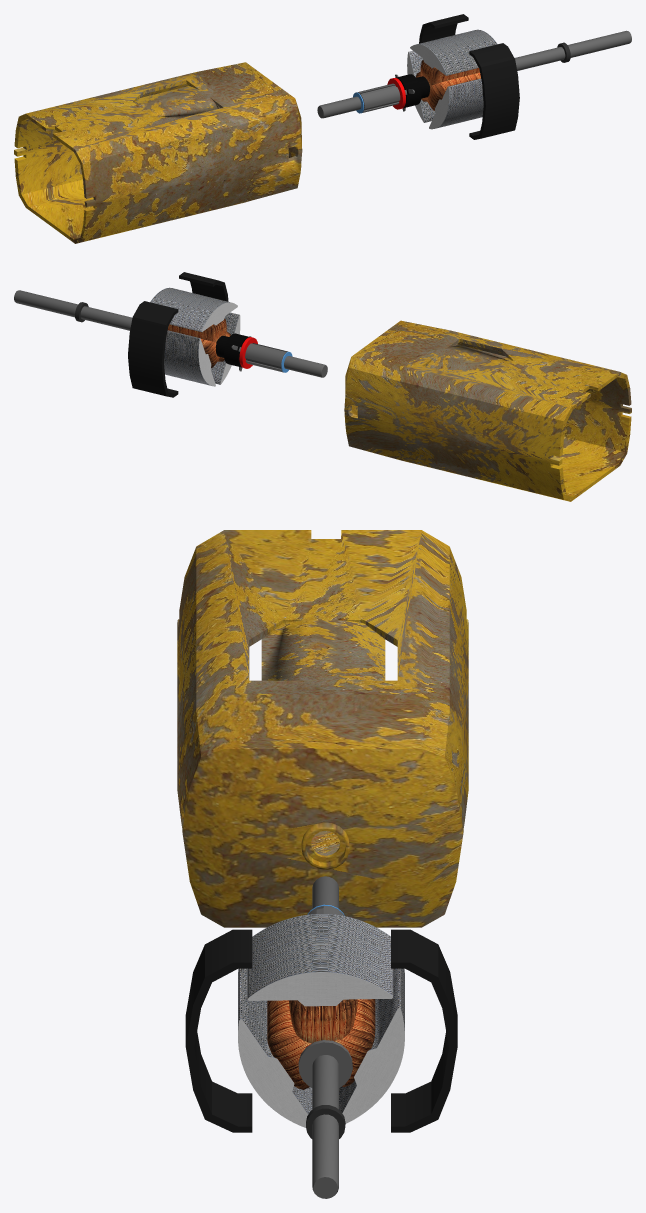
File: DC MOTOR.FBX
The picture shows the model from 3 angles, top to bottom: view 1: azimuth 30°, elevation 25°; view 2: azimuth 150°, elevation 25°; view 3: azimuth 270°, elevation 25°; orthographic projection. The views are drawn at different scales.
Visible parts, largest first — view 1: Box009, Magnet_1, coil_1, Coil_2, RototrHold, current, Magnet_2, coil_3, currentholder; view 2: Box009, Magnet_2, coil_1, coil_3, RototrHold, current, Magnet_1, Coil_2, currentholder; view 3: Box009, coil_1, Coil_2, Magnet_1, coil_3, Magnet_2, RototrHold, rotorpart.
Boxes of the visible parts, x1,y1,x2,y2 form: Box009: (14, 62, 302, 243); Magnet_1: (469, 43, 519, 139); coil_1: (410, 29, 497, 85); Coil_2: (426, 72, 483, 129); RototrHold: (317, 30, 631, 118); current: (356, 83, 400, 112); Magnet_2: (419, 14, 468, 43); coil_3: (407, 51, 435, 122); currentholder: (395, 74, 421, 108); Box009: (344, 320, 631, 501); Magnet_2: (128, 301, 178, 397); coil_1: (150, 287, 237, 342); coil_3: (164, 330, 219, 386); RototrHold: (14, 290, 327, 377); current: (245, 343, 287, 372); Magnet_1: (179, 272, 228, 301); Coil_2: (210, 312, 240, 384); currentholder: (224, 333, 249, 367); Box009: (177, 530, 468, 927); coil_1: (247, 914, 393, 1043); Coil_2: (238, 968, 312, 1127); Magnet_1: (185, 929, 252, 1132); coil_3: (334, 968, 404, 1123); Magnet_2: (391, 929, 457, 1132); RototrHold: (312, 876, 338, 1198); rotorpart: (298, 1040, 352, 1087).
Size of the model in its own units: 180 by 27.93 by 39.27.
Materials: 10 (4 with a texture image).
